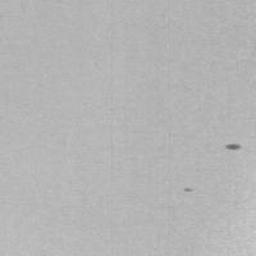Inclusion: (225, 144, 241, 150)
